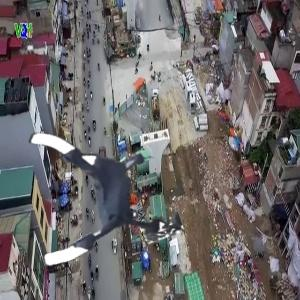drone: (20, 116, 166, 262)
